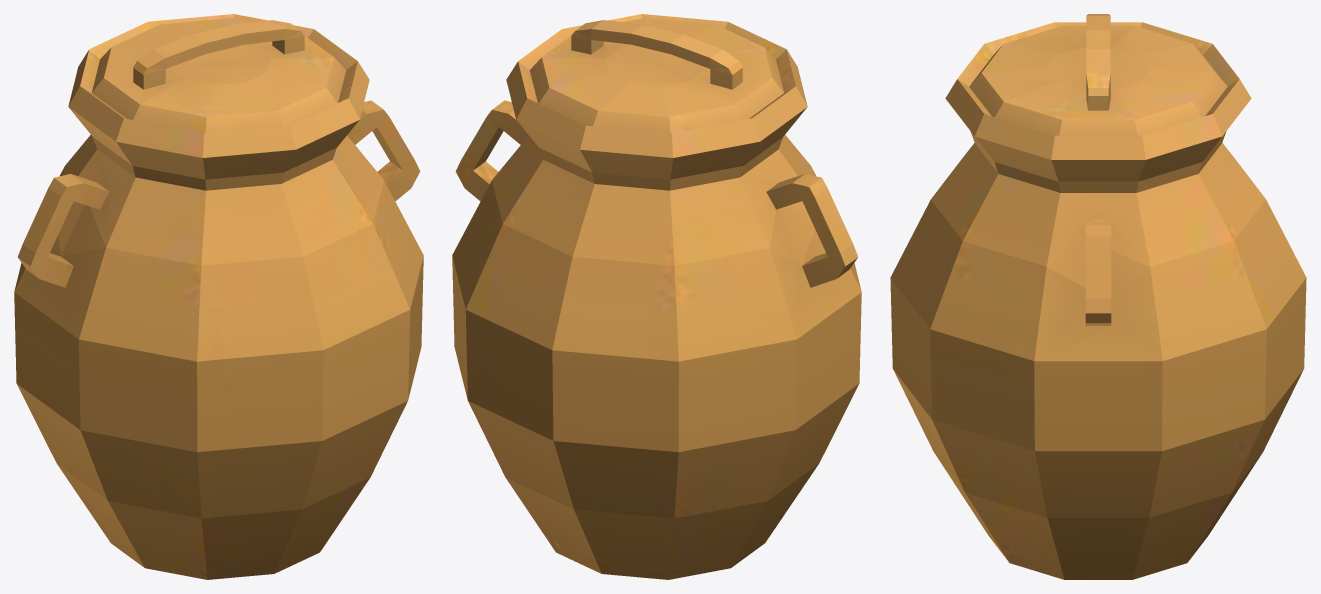
Rendered from water_jar.glb.
3 renders of one model, left to right at view 1: azimuth 30°, elevation 25°; view 2: azimuth 150°, elevation 25°; view 3: azimuth 270°, elevation 25°, orthographic.
Visible parts, largest first — view 1: water_jar; view 2: water_jar; view 3: water_jar.
Boxes of the visible parts, x1,y1,x2,y2 form: water_jar: [14, 14, 423, 579]; water_jar: [452, 14, 861, 579]; water_jar: [890, 14, 1306, 579].
Size of the model in its own units: 0.4901 by 0.6 by 0.4558.
1 material, 1 textured.
